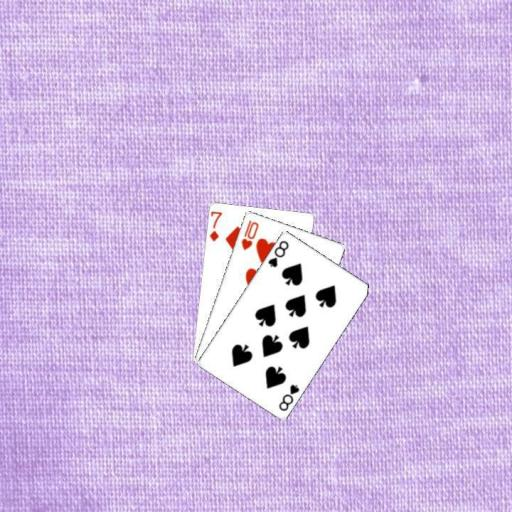card-corner: (275, 380, 301, 412), (265, 237, 290, 269), (238, 217, 260, 251), (206, 208, 224, 242)
